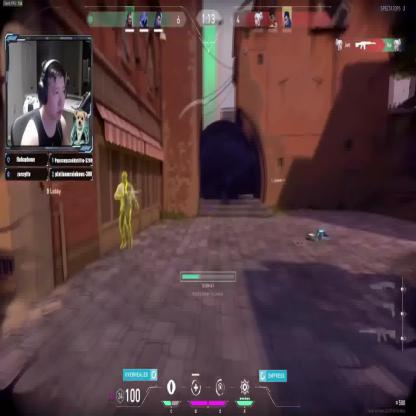enemy: (114, 171, 139, 250)
enemy_head: (121, 172, 128, 184)
